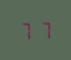seven: (19, 20, 34, 40), (35, 20, 50, 39)
